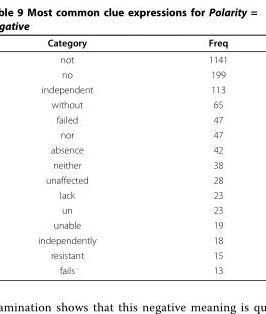table: (37, 36, 227, 275)
table column: (37, 36, 151, 275), (151, 36, 227, 275)
table column header: (37, 36, 227, 50)
table row: (37, 50, 227, 66), (37, 141, 227, 157), (37, 66, 227, 81), (37, 81, 227, 96), (37, 96, 227, 111), (37, 111, 227, 126), (37, 126, 227, 141), (37, 157, 227, 172), (37, 172, 227, 187), (37, 187, 227, 202), (37, 202, 227, 217), (37, 217, 227, 232), (37, 232, 227, 247), (37, 247, 227, 262), (37, 36, 227, 50), (37, 262, 227, 275)
